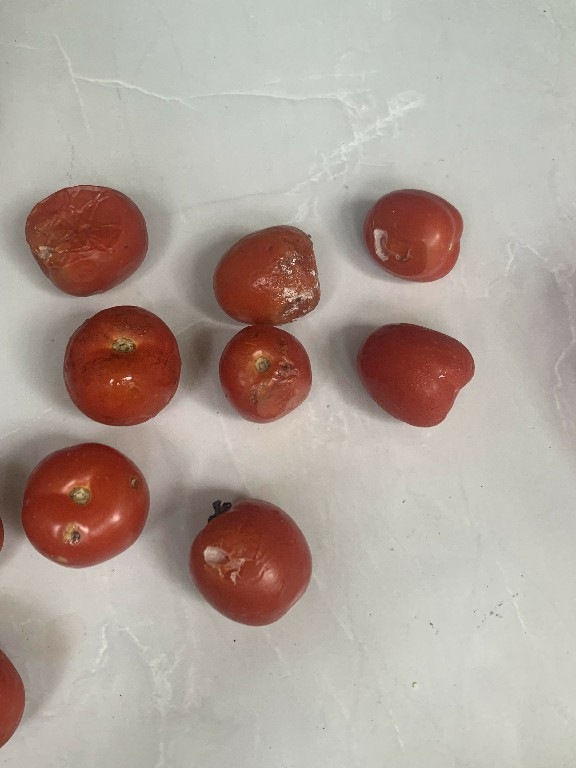NG: (15, 435, 154, 576), (179, 492, 318, 632), (19, 179, 155, 303), (58, 301, 186, 426), (209, 214, 326, 326), (211, 316, 321, 425), (354, 180, 465, 288)
OK: (354, 314, 483, 434)
